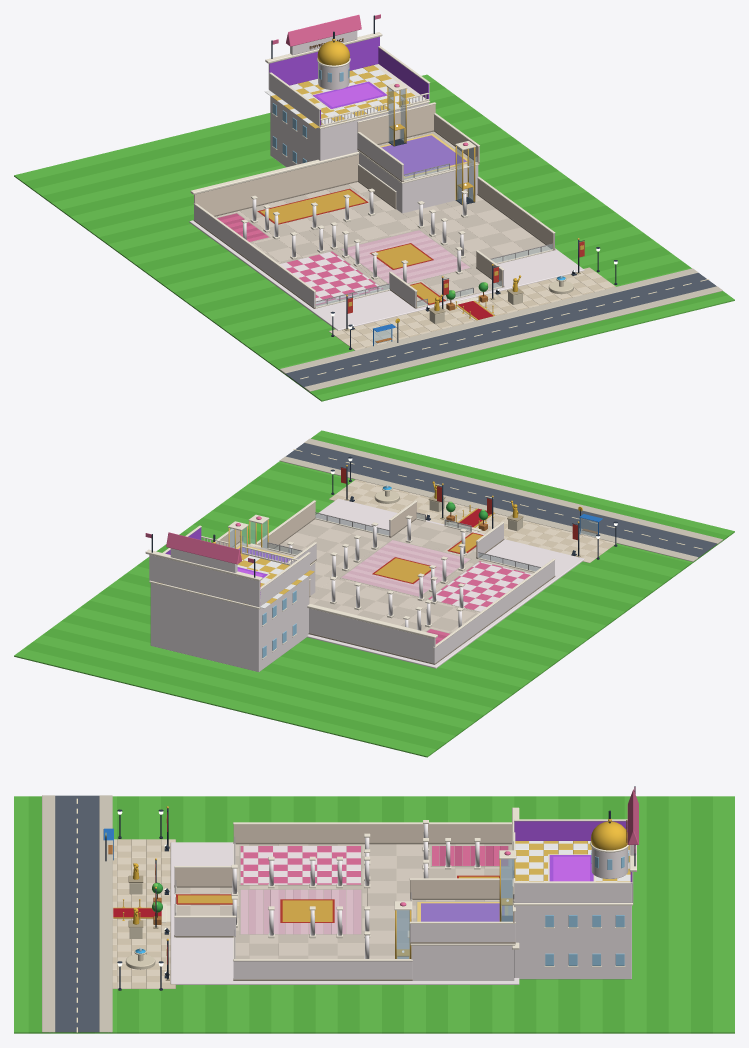
Rendered from shell.glb.
3 renders of one model, top to bottom at view 1: azimuth 30°, elevation 25°; view 2: azimuth 150°, elevation 25°; view 3: azimuth 270°, elevation 25°, orthographic. The views are drawn at different scales.
Parts seen in each view (by area): view 1: grounds, building, floor_crown_terrace, floor_floor_1, crown, lift_floor_1, grand_2, lift_crown_terrace, dome; view 2: grounds, building, floor_crown_terrace, crown, floor_floor_1, grand_2, lift_floor_1, grand_4; view 3: grounds, building, floor_crown_terrace, floor_floor_1, crown, lift_crown_terrace, lift_floor_1, dome, grand_4, grand_3, grand_2.
Boxes of the visible parts, <box> form: grounds: <box>14,74,734,401</box>; building: <box>189,154,584,330</box>; floor_crown_terrace: <box>264,36,430,167</box>; floor_floor_1: <box>357,102,479,213</box>; crown: <box>190,14,382,194</box>; lift_floor_1: <box>455,141,475,205</box>; grand_2: <box>344,238,584,330</box>; lift_crown_terrace: <box>386,82,407,146</box>; dome: <box>317,41,349,65</box>; grounds: <box>14,430,734,757</box>; building: <box>256,498,584,668</box>; floor_crown_terrace: <box>149,525,314,671</box>; crown: <box>145,532,437,638</box>; floor_floor_1: <box>215,529,316,595</box>; grand_2: <box>340,465,580,557</box>; lift_floor_1: <box>248,514,269,548</box>; grand_4: <box>428,481,523,531</box>; grounds: <box>14,795,734,1033</box>; building: <box>161,820,519,984</box>; floor_crown_terrace: <box>513,819,633,979</box>; floor_floor_1: <box>409,878,515,980</box>; crown: <box>512,786,638,949</box>; lift_crown_terrace: <box>499,850,516,921</box>; lift_floor_1: <box>394,901,411,958</box>; dome: <box>591,821,627,850</box>; grand_4: <box>128,863,143,938</box>; grand_3: <box>113,844,169,978</box>; grand_2: <box>152,806,169,980</box>.
Bounding box in the file's own units: 38.1 × 10.53 × 49.
